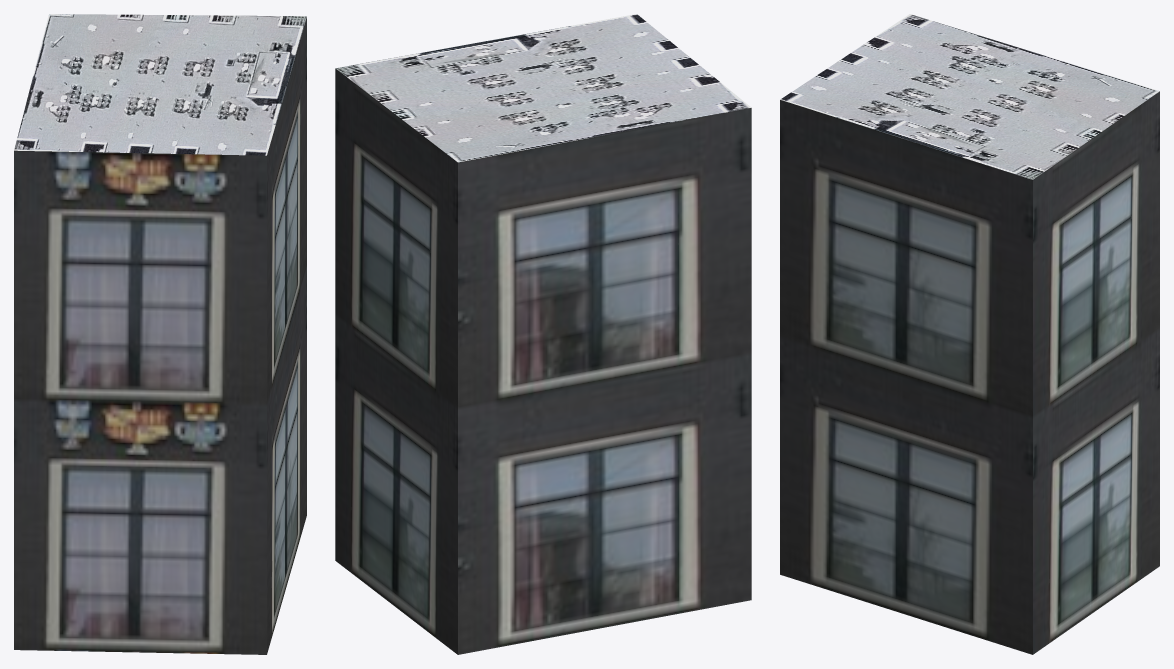
Rendered from ResTex__4552.fbx.
The picture shows the model from 3 angles, left to right: view 1: azimuth 30°, elevation 25°; view 2: azimuth 150°, elevation 25°; view 3: azimuth 270°, elevation 25°; orthographic projection. The views are drawn at different scales.
Visible parts, largest first — view 1: CityEngineMaterial_22_m, CityEngineMaterial_4_m; view 2: CityEngineMaterial_22_m, CityEngineMaterial_4_m; view 3: CityEngineMaterial_22_m, CityEngineMaterial_4_m.
Boxes of the visible parts, x1,y1,x2,y2 form: CityEngineMaterial_22_m: (14, 17, 306, 654); CityEngineMaterial_4_m: (14, 14, 306, 155); CityEngineMaterial_22_m: (335, 68, 751, 654); CityEngineMaterial_4_m: (336, 14, 751, 162); CityEngineMaterial_22_m: (780, 91, 1159, 654); CityEngineMaterial_4_m: (780, 14, 1159, 179).
Size of the model in its own units: 4.5 by 6 by 4.35.
2 materials, 2 textured.
